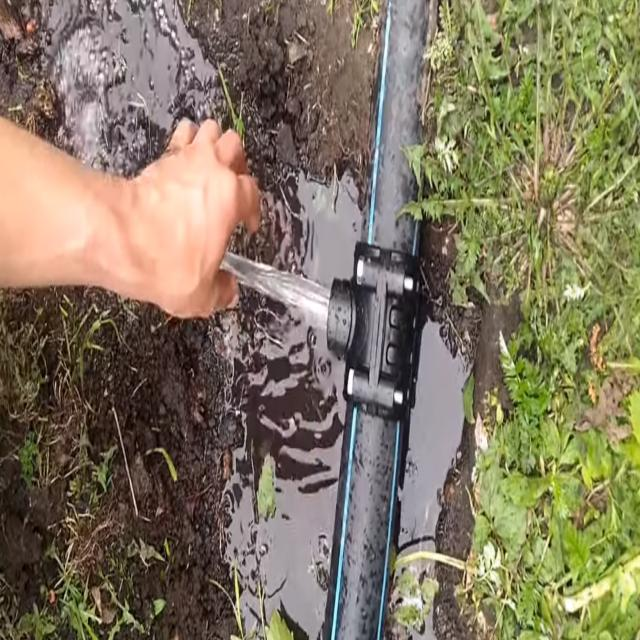leak: (220, 252, 330, 326)
